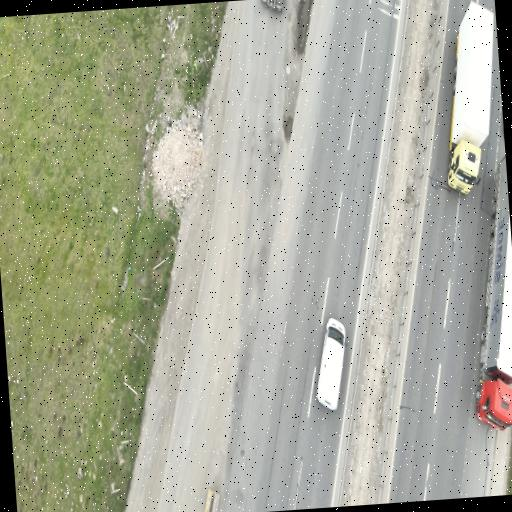car: (316, 319, 345, 410)
truck: (475, 158, 511, 429), (447, 2, 492, 193)
